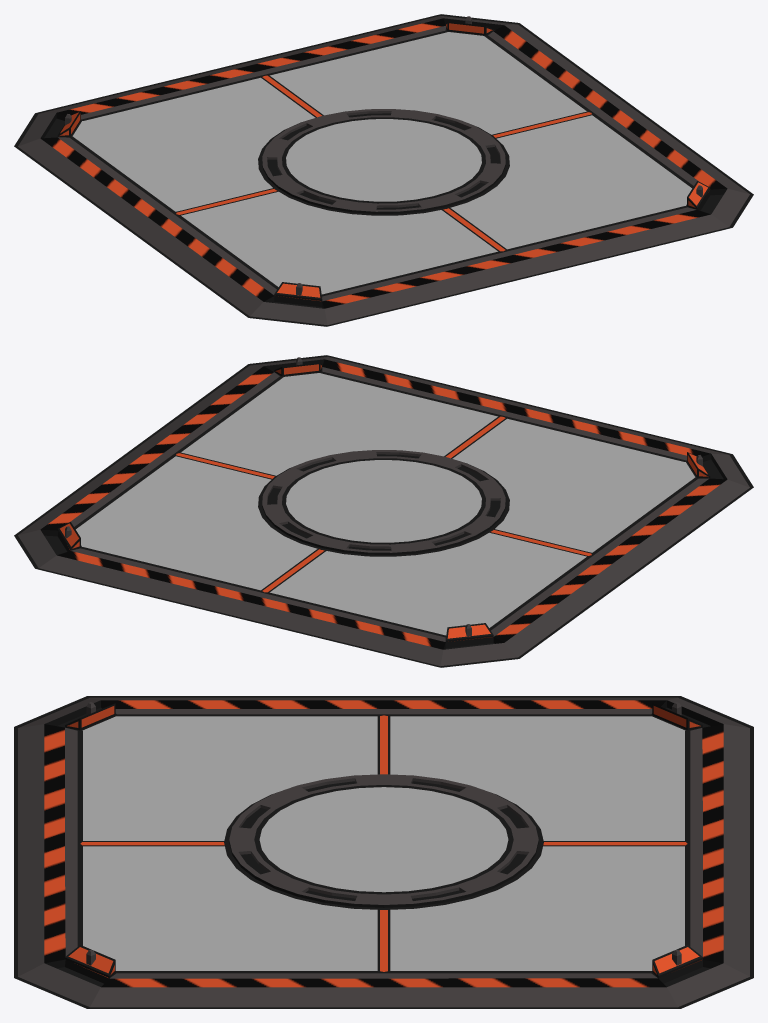
Rendered from Environment2_Misc_CapturePoint.fbx.
3 renders of one model, top to bottom at view 1: azimuth 30°, elevation 25°; view 2: azimuth 150°, elevation 25°; view 3: azimuth 270°, elevation 25°, orthographic. The views are drawn at different scales.
Parts seen in each view (by area): view 1: Plane; view 2: Plane; view 3: Plane.
Part boxes in pixels (x1=…): Plane: x1=14, y1=14, x2=753, y2=326; Plane: x1=14, y1=355, x2=753, y2=667; Plane: x1=14, y1=696, x2=753, y2=1008.
Size of the model in its own units: 20.21 by 20.21 by 0.7736.
